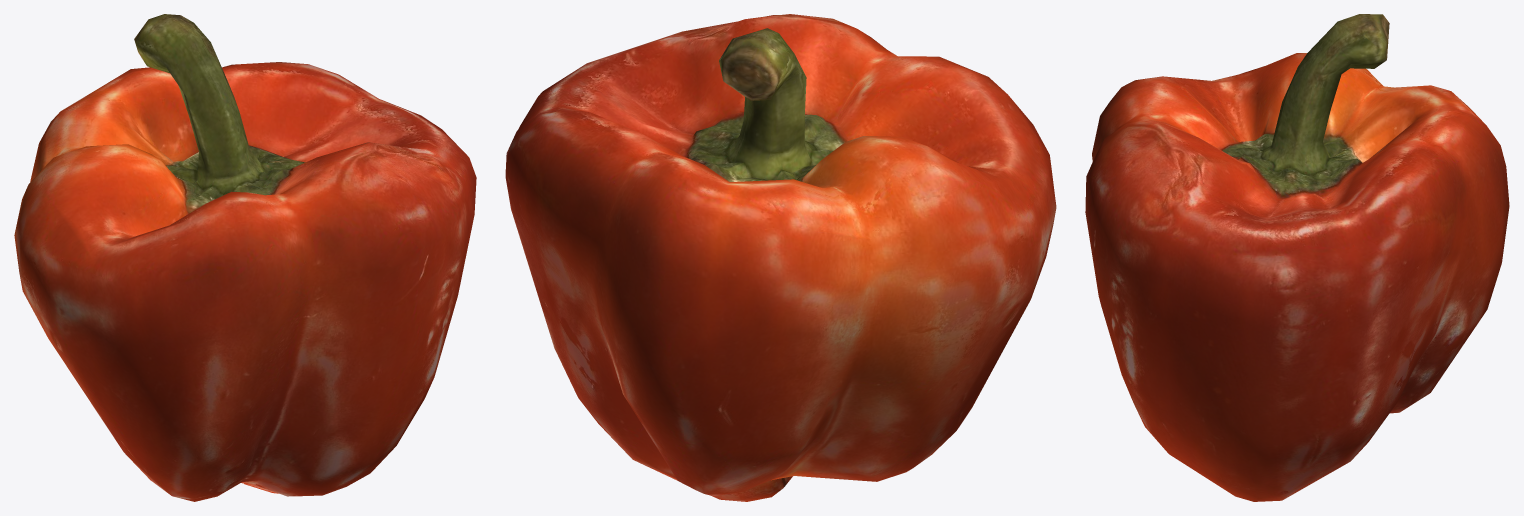
File: 31_pepper_orange.glb
3 renders of one model, left to right at view 1: azimuth 30°, elevation 25°; view 2: azimuth 150°, elevation 25°; view 3: azimuth 270°, elevation 25°, orthographic. The views are drawn at different scales.
Visible parts, largest first — view 1: 31_pepper; view 2: 31_pepper; view 3: 31_pepper.
Part boxes in pixels (x1,y1,x2,y2): 31_pepper: (14, 14, 476, 501); 31_pepper: (505, 14, 1056, 501); 31_pepper: (1085, 14, 1509, 501).
Bounding box in the file's own units: 1.02 × 1.05 × 0.9131.
1 material, 1 textured.
